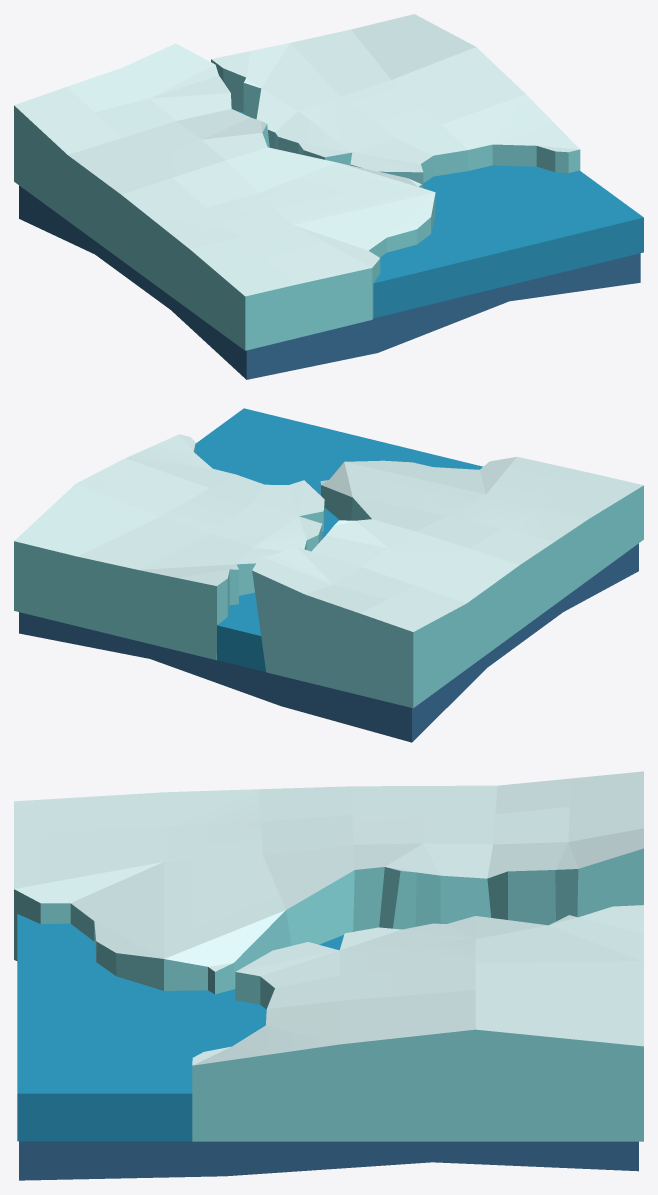
File: terrains_world-ice.fbx
3 renders of one model, top to bottom at view 1: azimuth 30°, elevation 25°; view 2: azimuth 150°, elevation 25°; view 3: azimuth 270°, elevation 25°, orthographic. The views are drawn at different scales.
Visible parts, largest first — view 1: terrains_world_ice; view 2: terrains_world_ice; view 3: terrains_world_ice.
Boxes of the visible parts, x1,y1,x2,y2 form: terrains_world_ice: (14,14,643,379); terrains_world_ice: (14,408,643,742); terrains_world_ice: (14,771,643,1180).
Bounding box in the file's own units: 200 × 64.59 × 200.
